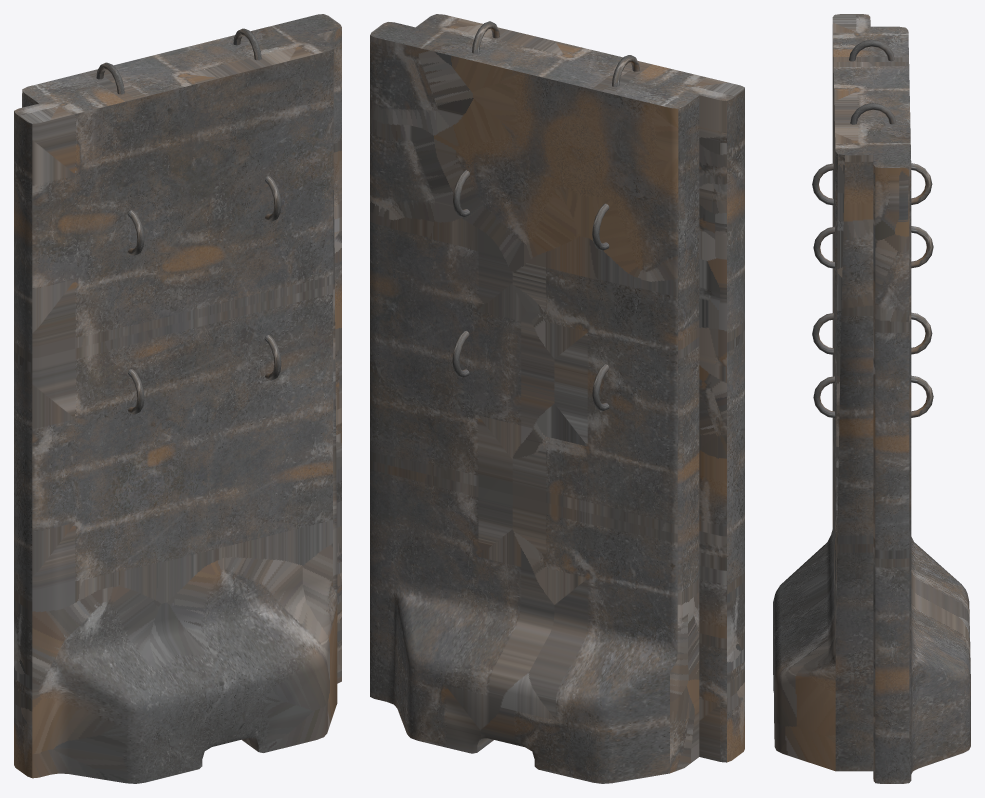
The picture shows the model from 3 angles, left to right: view 1: azimuth 30°, elevation 25°; view 2: azimuth 150°, elevation 25°; view 3: azimuth 270°, elevation 25°; orthographic projection. The views are drawn at different scales.
Parts seen in each view (by area): view 1: Box001; view 2: Box001; view 3: Box001.
Part boxes in pixels (<box>): Box001: <box>14,14,341,783</box>; Box001: <box>370,14,744,783</box>; Box001: <box>773,14,970,783</box>.
Size of the model in its own units: 122 by 236 by 66.59.
